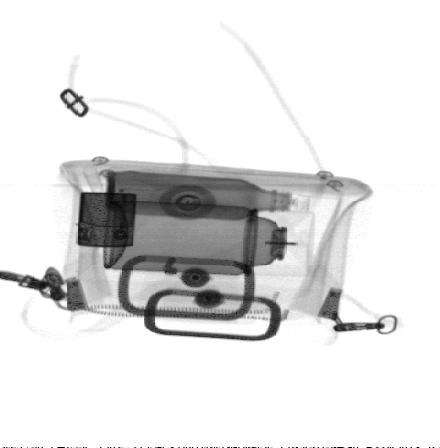Lighter: (75, 191, 135, 247)
Sprayer: (103, 201, 315, 278)
